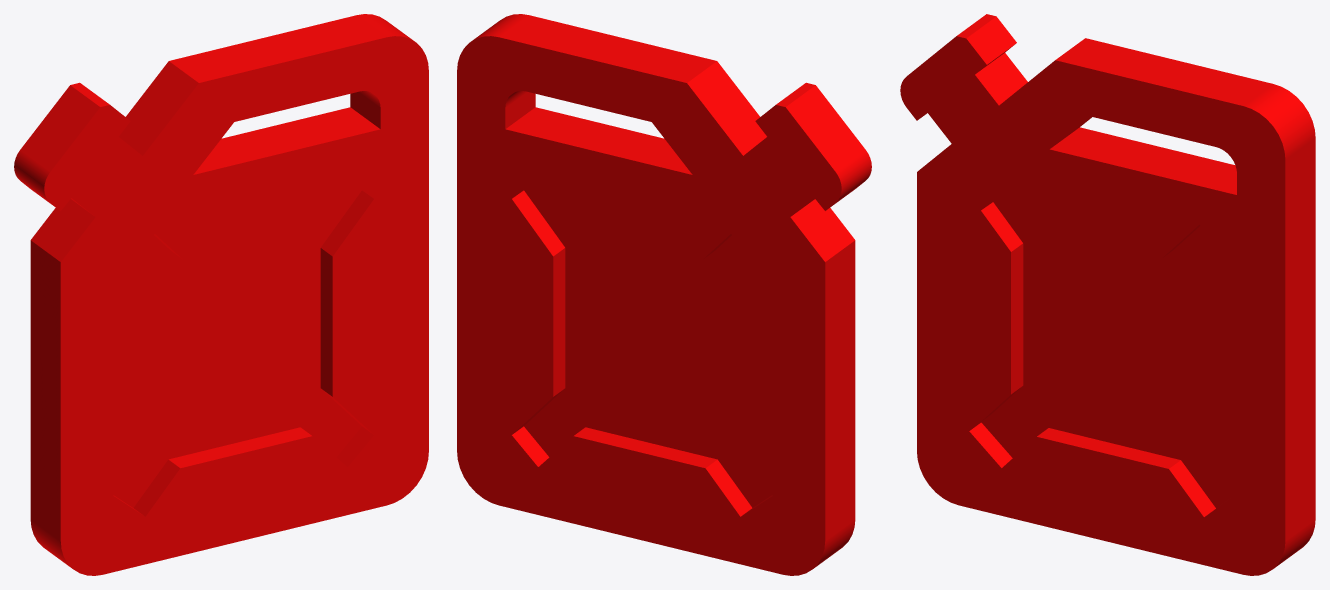
File: jerikan.gltf
The picture shows the model from 3 angles, left to right: view 1: azimuth 30°, elevation 25°; view 2: azimuth 150°, elevation 25°; view 3: azimuth 330°, elevation 25°; orthographic projection.
Visible parts, largest first — view 1: Body2_Steel - Satin_0_6; view 2: Body2_Steel - Satin_0_6; view 3: Body2_Steel - Satin_0_6.
Part boxes in pixels (x1,y1,x2,y2): Body2_Steel - Satin_0_6: (14,14,428,575); Body2_Steel - Satin_0_6: (457,14,871,575); Body2_Steel - Satin_0_6: (900,14,1315,575).
Size of the model in its own units: 36.78 by 42.78 by 5.
